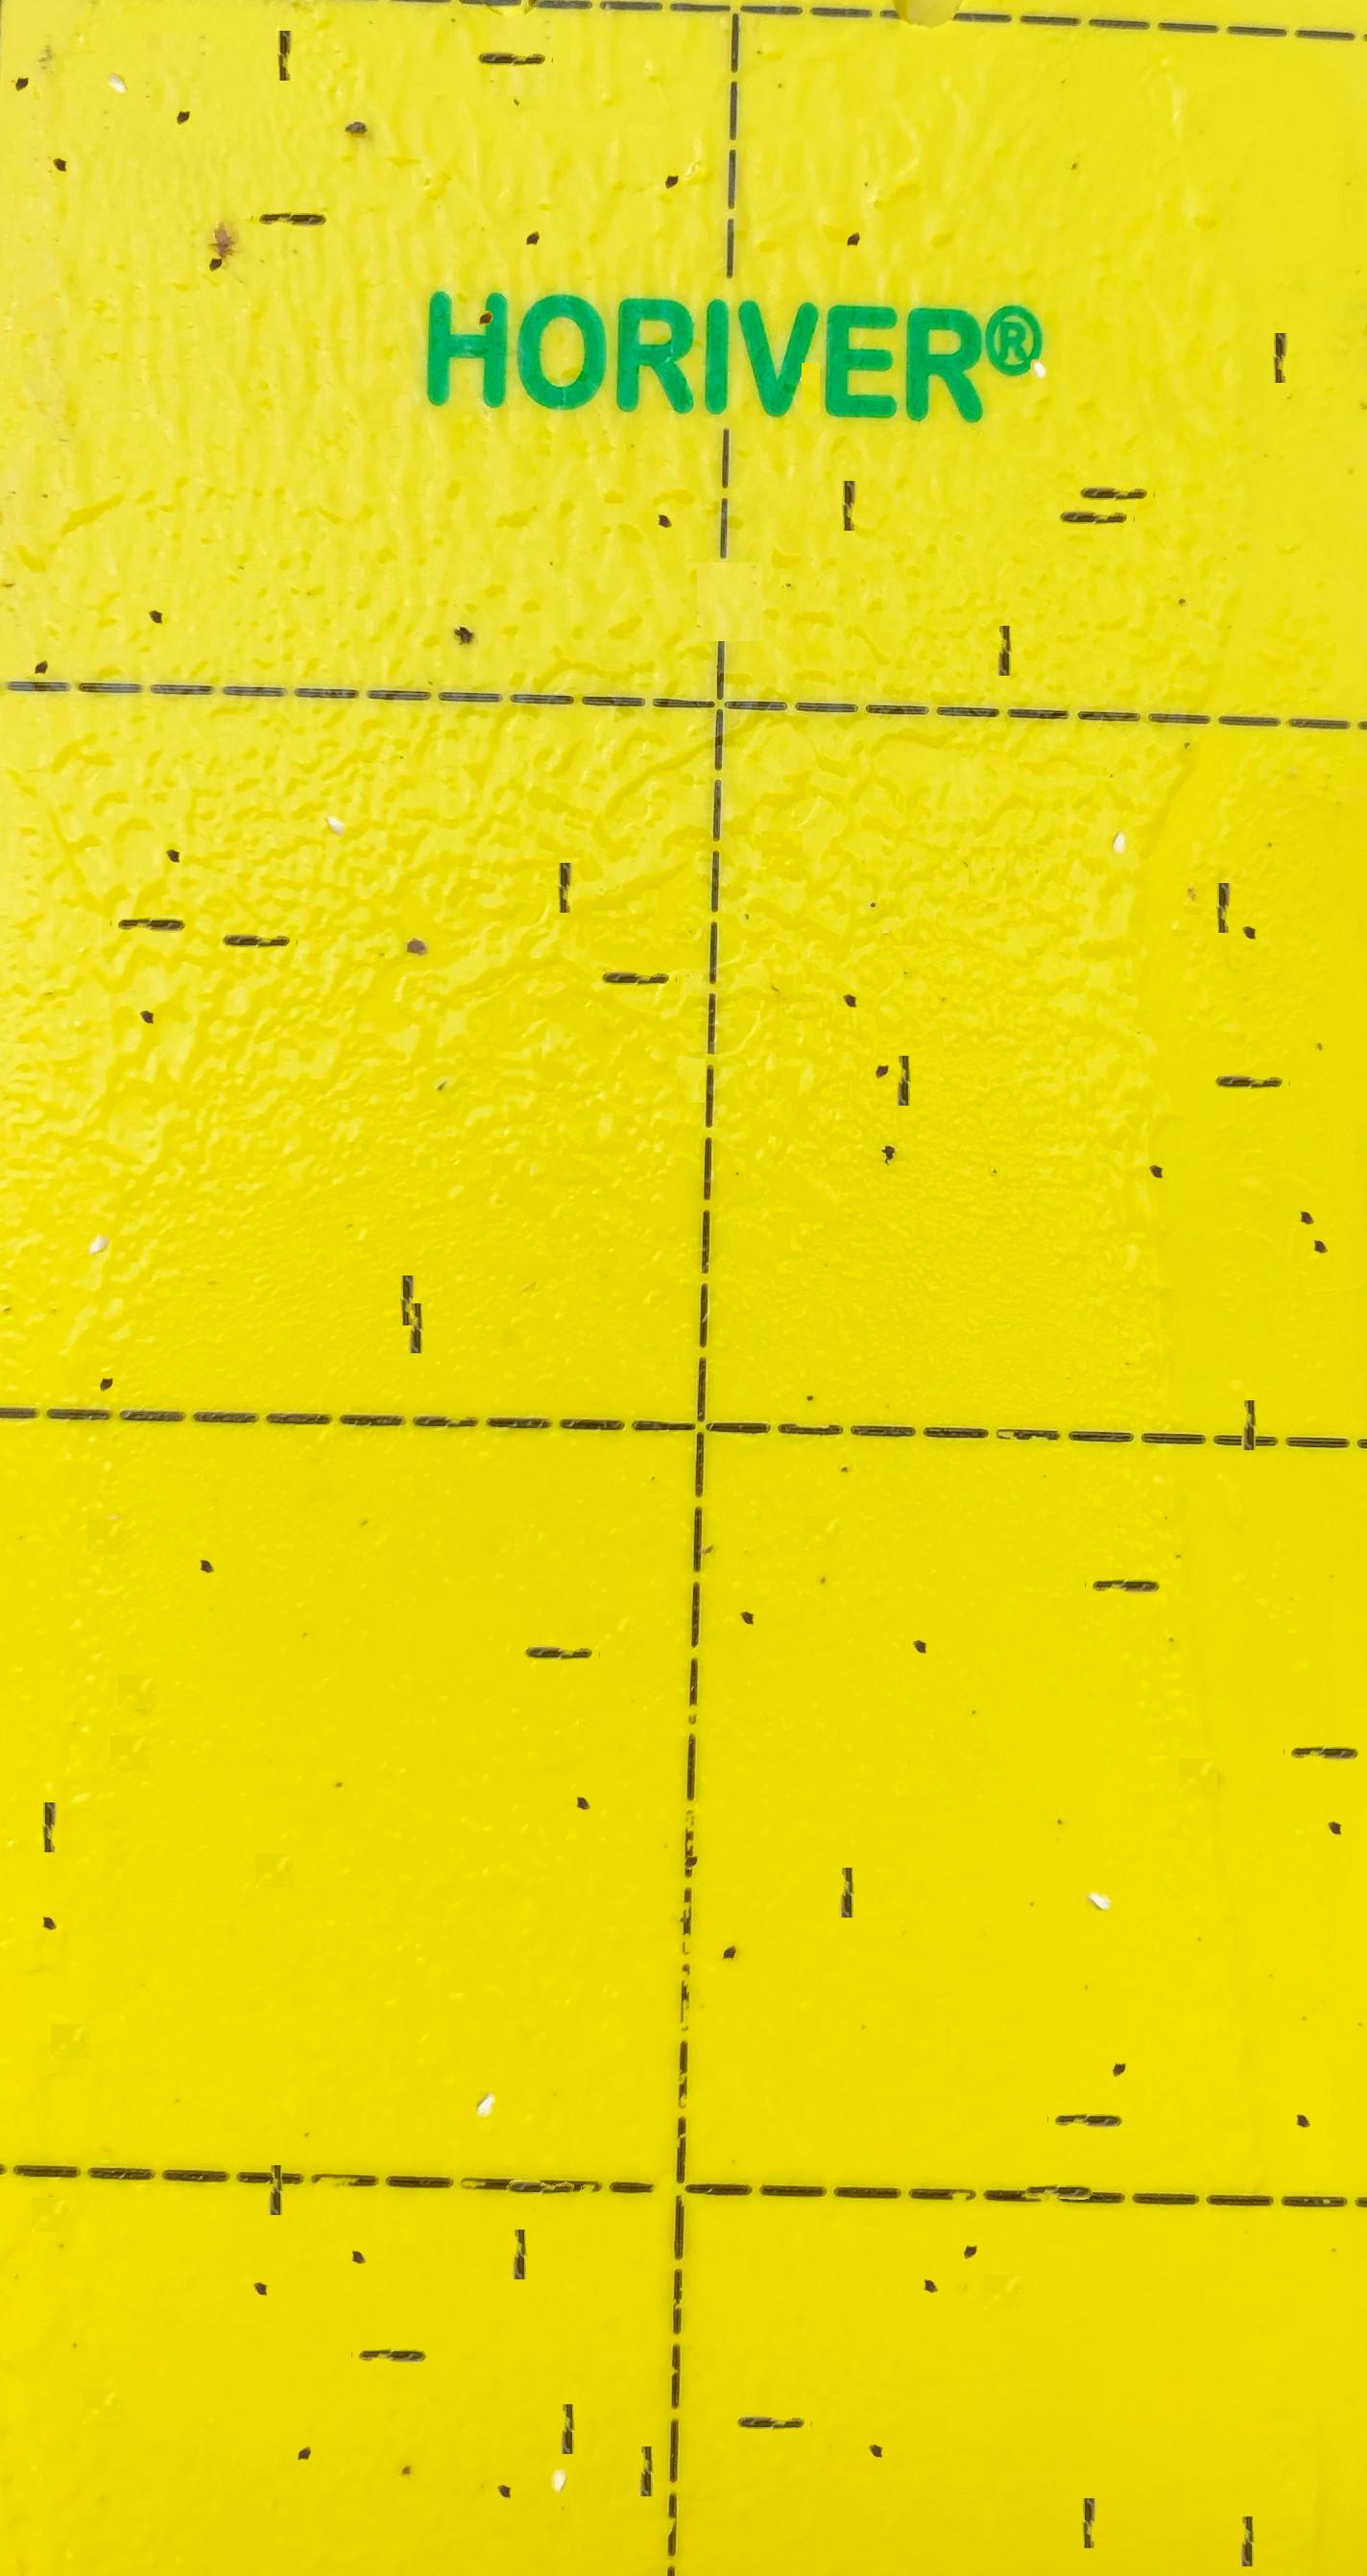white_fly: (1018, 298, 1060, 346), (1081, 1831, 1123, 1877), (95, 19, 138, 61), (315, 762, 358, 804), (467, 2041, 508, 2085), (78, 1179, 119, 1222), (540, 2423, 581, 2460), (1098, 789, 1139, 825)
